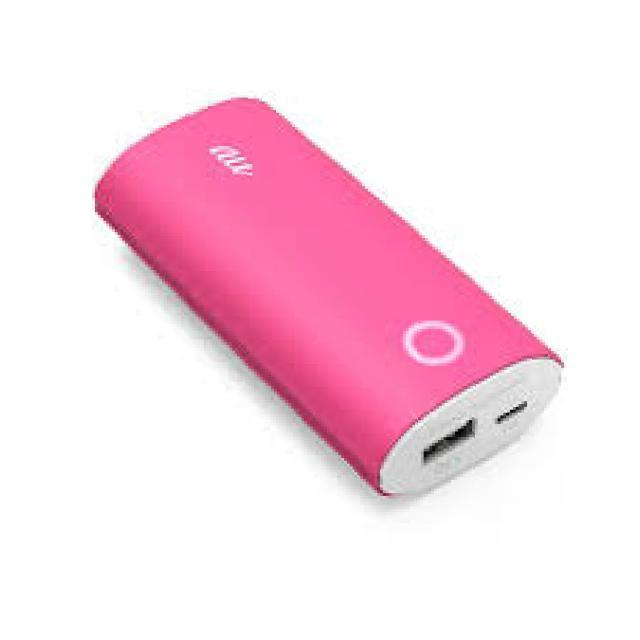Battery: (84, 76, 592, 542)
